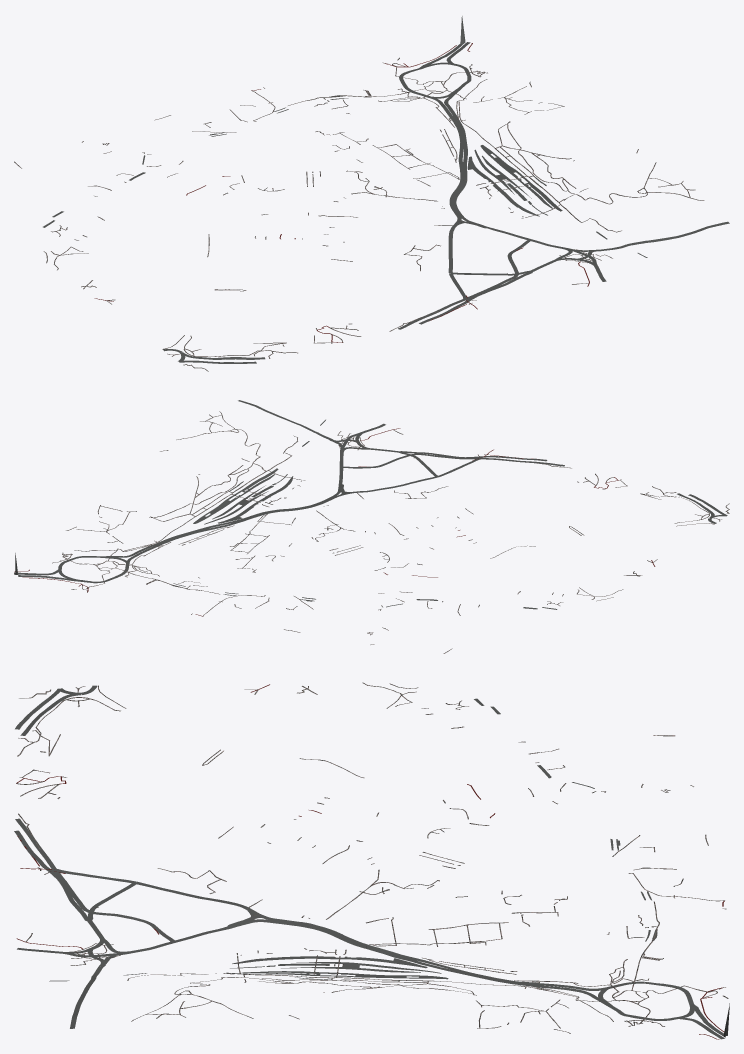
Rendered from map_10.osm_roads_primary.fbx.
The picture shows the model from 3 angles, top to bottom: view 1: azimuth 30°, elevation 25°; view 2: azimuth 150°, elevation 25°; view 3: azimuth 270°, elevation 25°; orthographic projection. The views are drawn at different scales.
Visible parts, largest first — view 1: map_10.osm_roads_trunk, map_10.osm_areas_footway.003; view 2: map_10.osm_roads_trunk, map_10.osm_areas_footway.003; view 3: map_10.osm_roads_trunk, map_10.osm_areas_footway.003, map_10.osm_areas_footway, map_10.osm_areas_footway.012.
Boxes of the visible parts, <box> form: map_10.osm_roads_trunk: <box>163,16,606,363</box>; map_10.osm_areas_footway.003: <box>480,145,562,211</box>; map_10.osm_roads_trunk: <box>14,423,727,583</box>; map_10.osm_areas_footway.003: <box>193,468,278,523</box>; map_10.osm_roads_trunk: <box>14,685,729,1039</box>; map_10.osm_areas_footway.003: <box>226,971,448,979</box>; map_10.osm_areas_footway: <box>230,962,441,973</box>; map_10.osm_areas_footway.012: <box>232,956,427,968</box>.
Size of the model in its own units: 142805 by 7270 by 126318.
